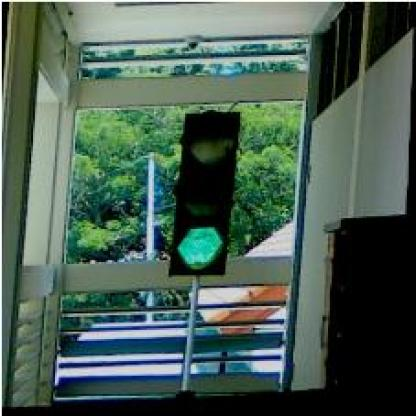green: (169, 110, 242, 282)
